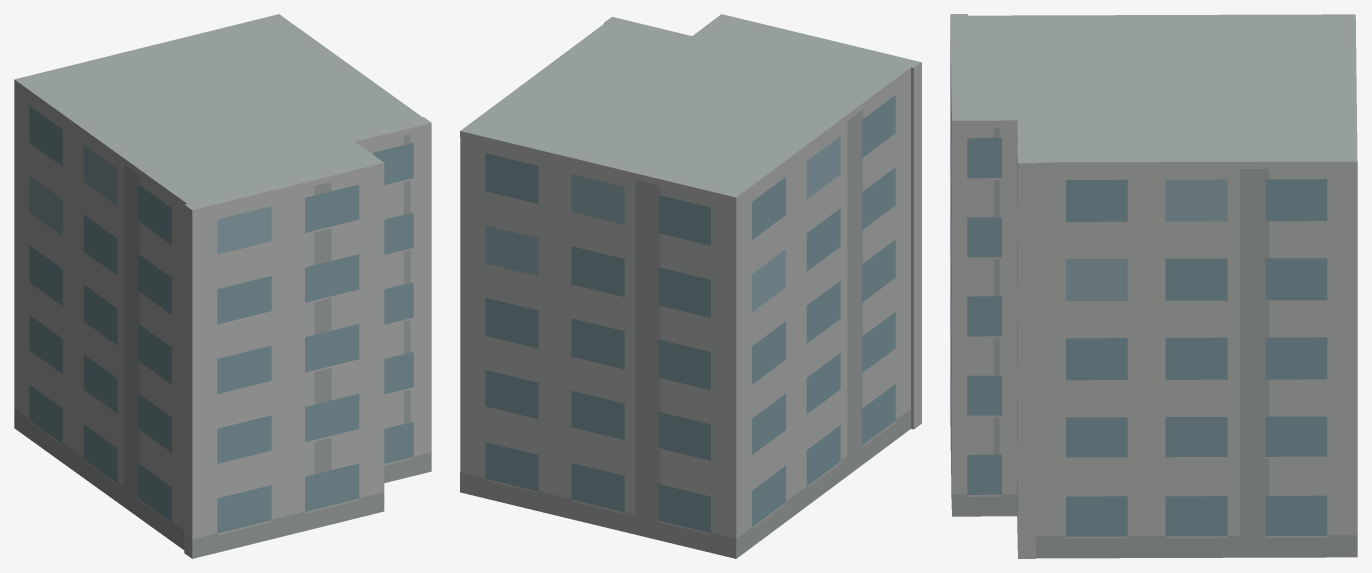
The model's file is survey-upis-32890115.glb.
3 renders of one model, left to right at view 1: azimuth 30°, elevation 25°; view 2: azimuth 150°, elevation 25°; view 3: azimuth 270°, elevation 25°, orthographic. The views are drawn at different scales.
Visible parts, largest first — view 1: survey-upis-32890115.tmp; view 2: survey-upis-32890115.tmp; view 3: survey-upis-32890115.tmp.
Boxes of the visible parts, x1=… form: survey-upis-32890115.tmp: x1=14, y1=14, x2=431, y2=558; survey-upis-32890115.tmp: x1=460, y1=14, x2=921, y2=558; survey-upis-32890115.tmp: x1=950, y1=14, x2=1357, y2=558.
Size of the model in its own units: 11.08 by 13.7 by 12.79.
